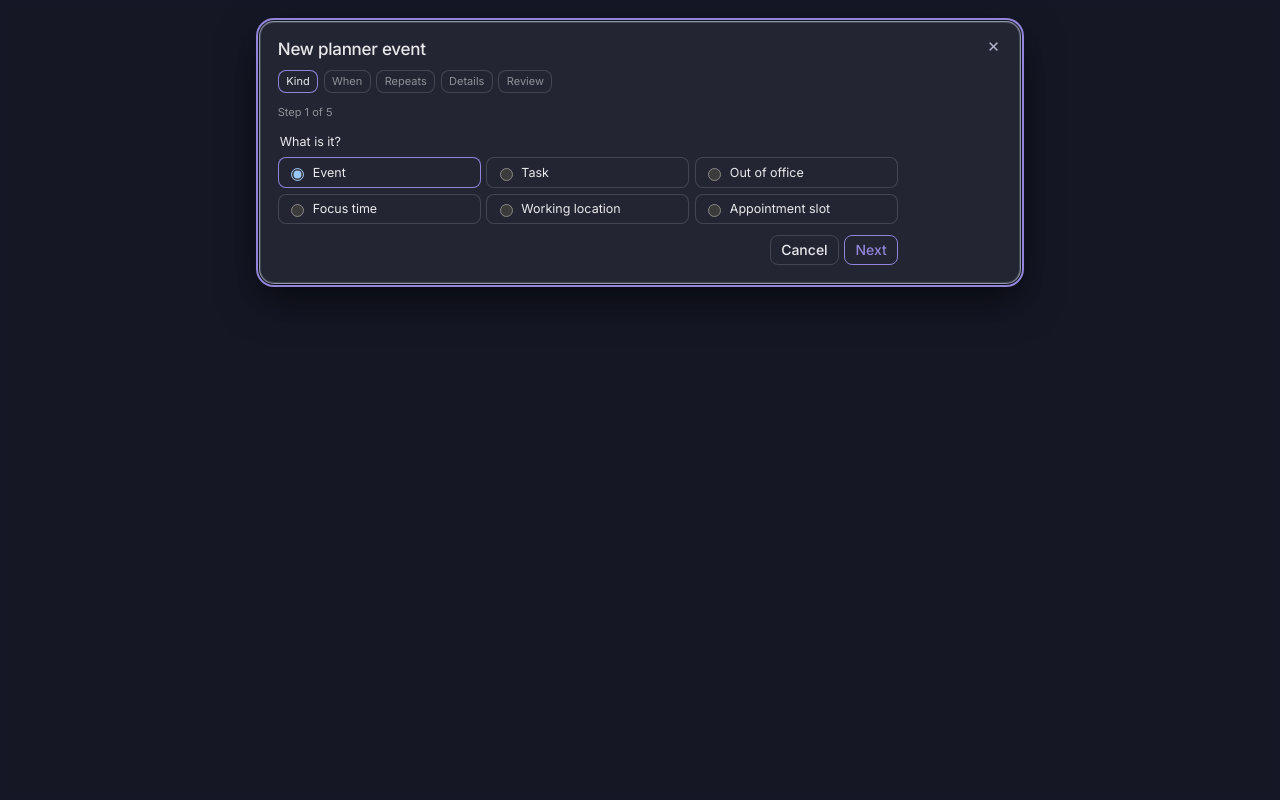
it: R3-9 — step by step › keeps what was entered when going Back and Next
The width and height of the screenshot is (1280, 800).
Click the radio button labelled "Task": (506, 174) [500,168,513,181]
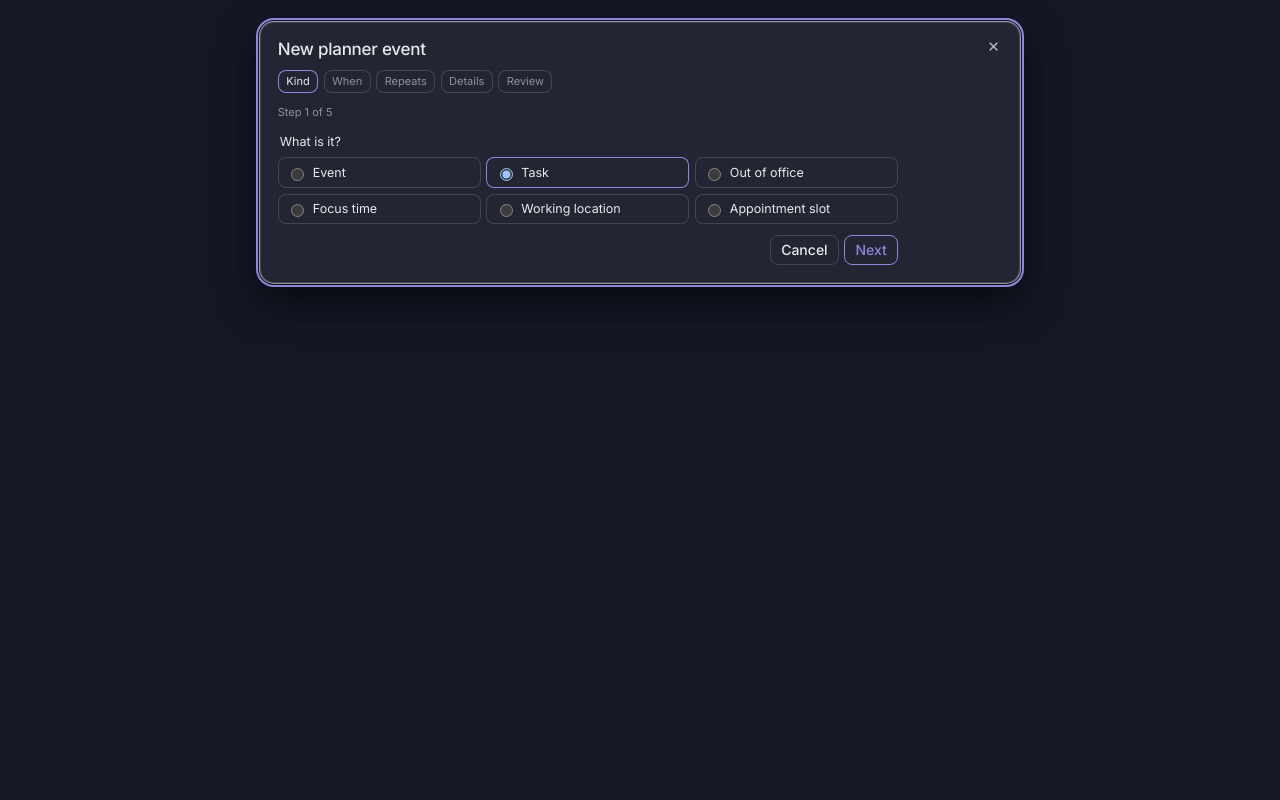
Click the button "Next": (871, 250) [844,235,898,265]
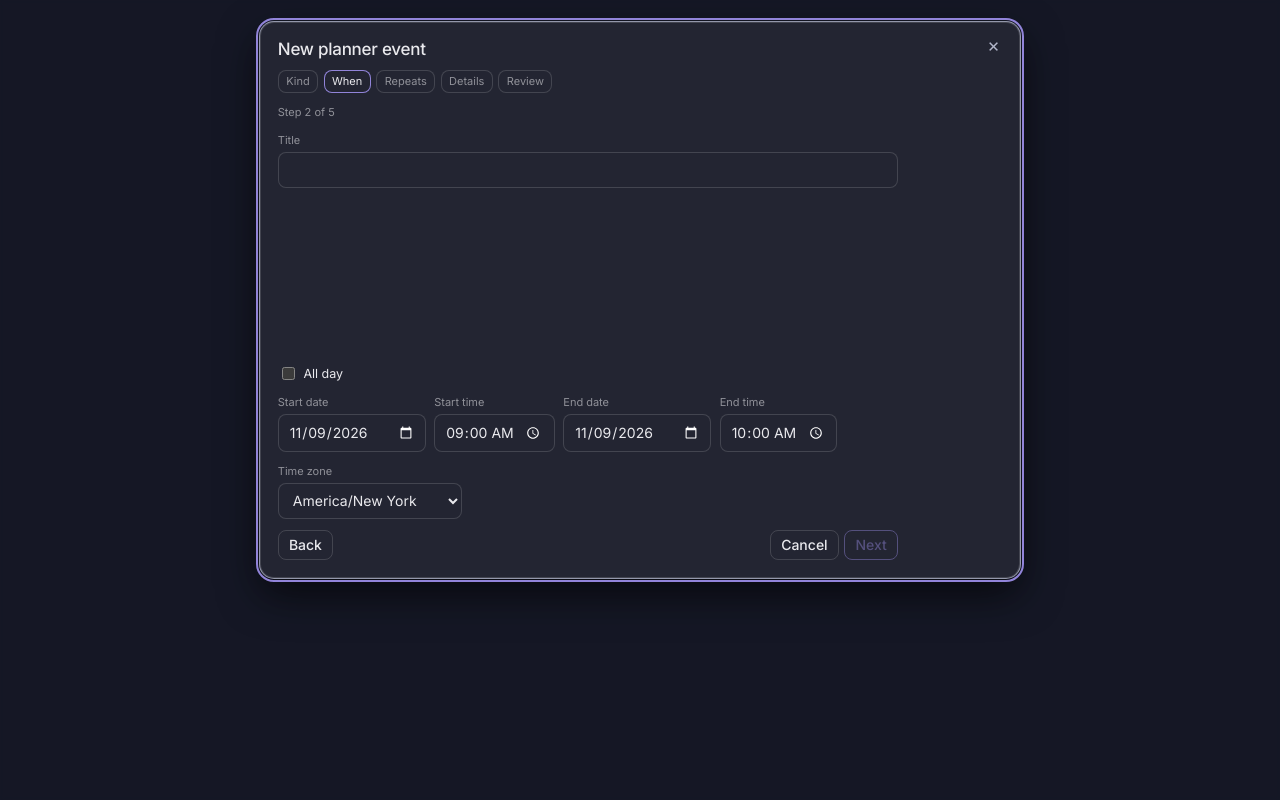
In the field labelled "Title": (588, 170) [278,152,898,188], type "Read chapter 7"
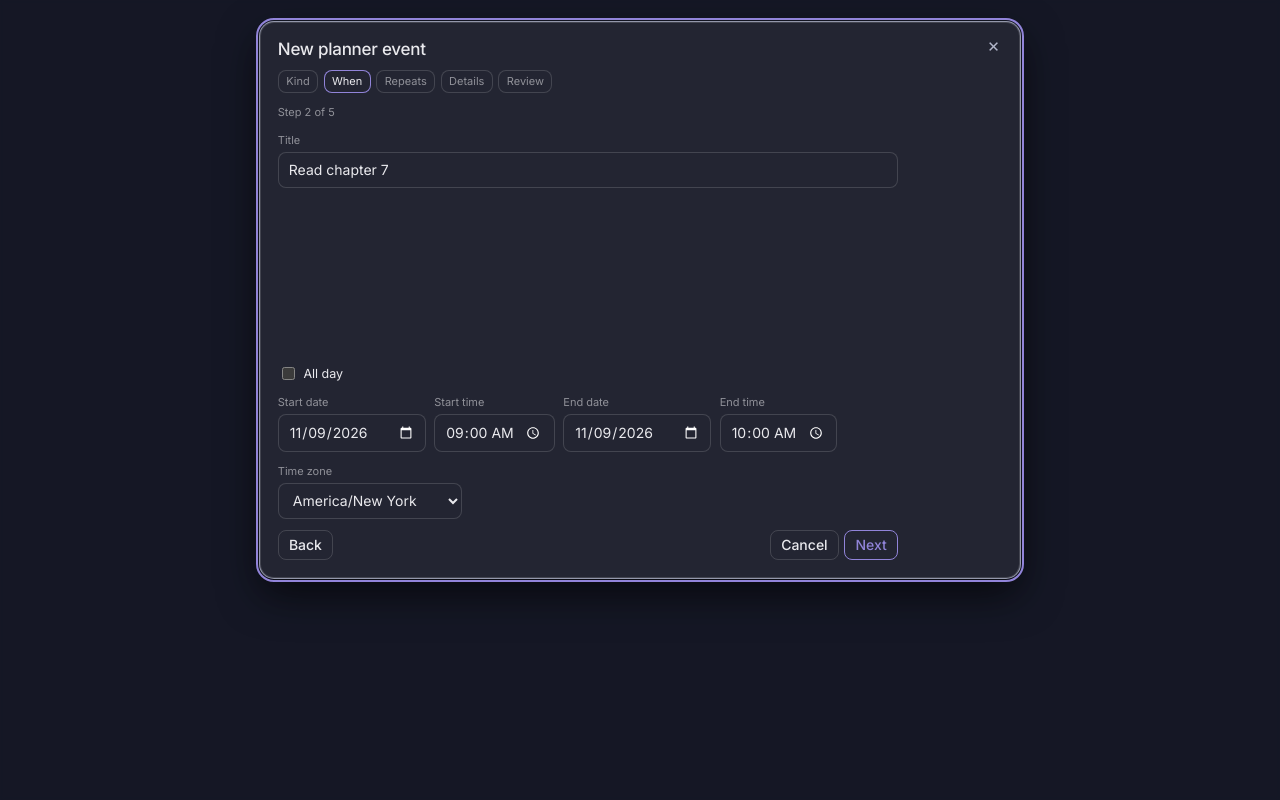
Click the button "Back": (305, 545) [278,530,333,560]
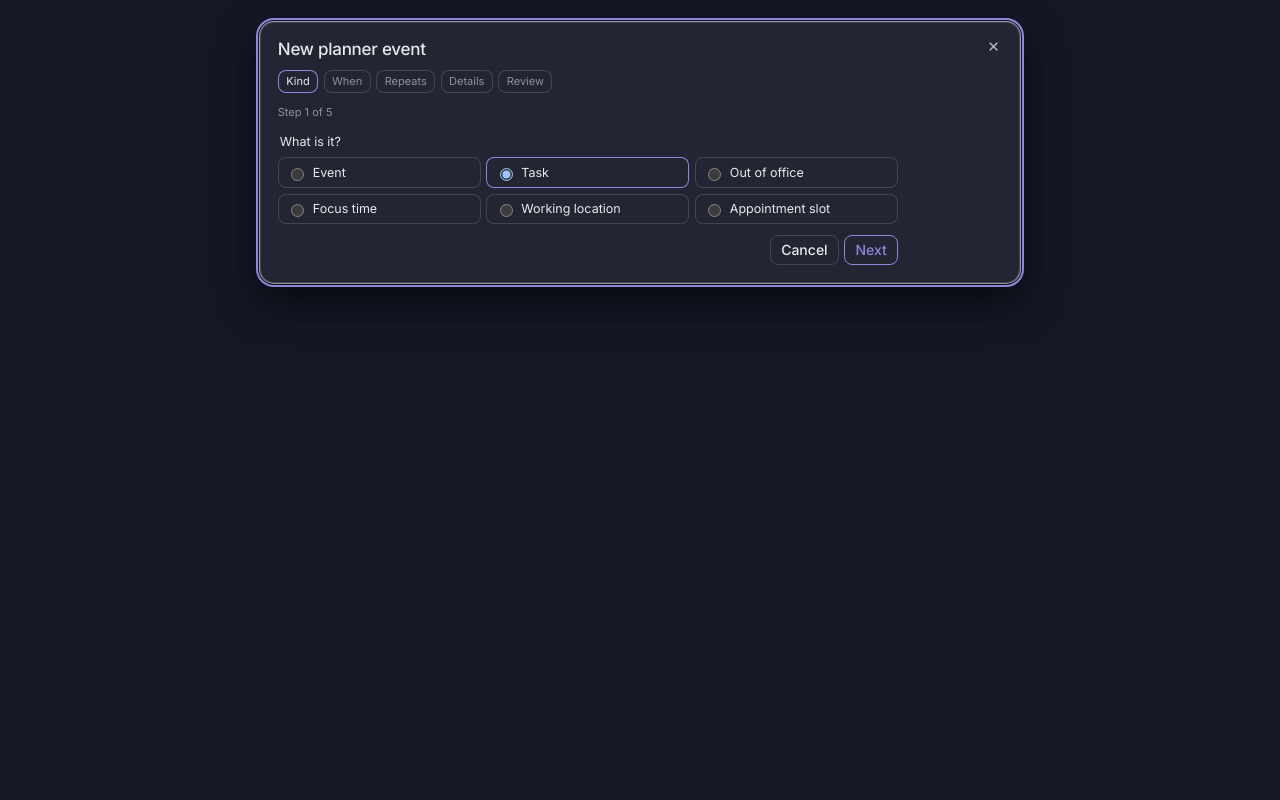
expect the radio button labelled "Task" is checked: met, box [500,168,513,181]
Click the button "Next": (871, 250) [844,235,898,265]
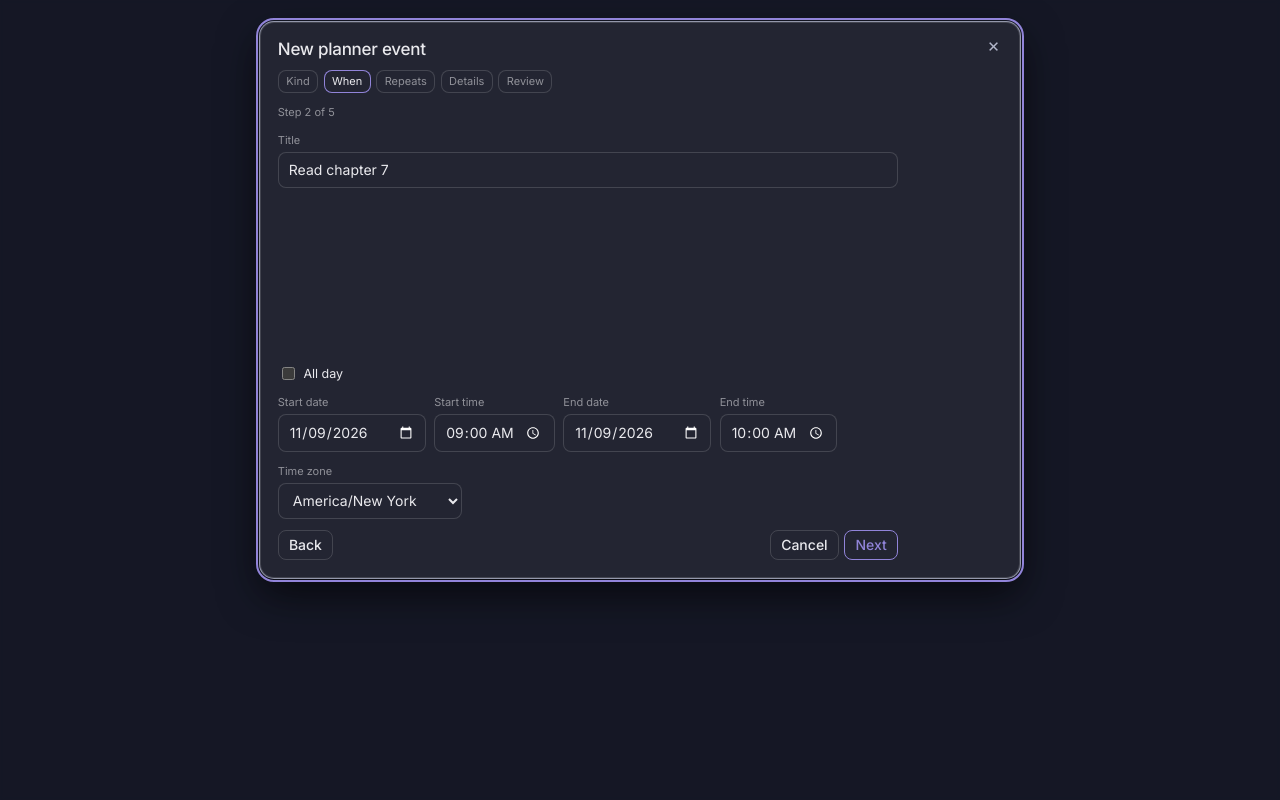
expect the field labelled "Title" holds "Read chapter 7": met, box [278,152,898,188]
